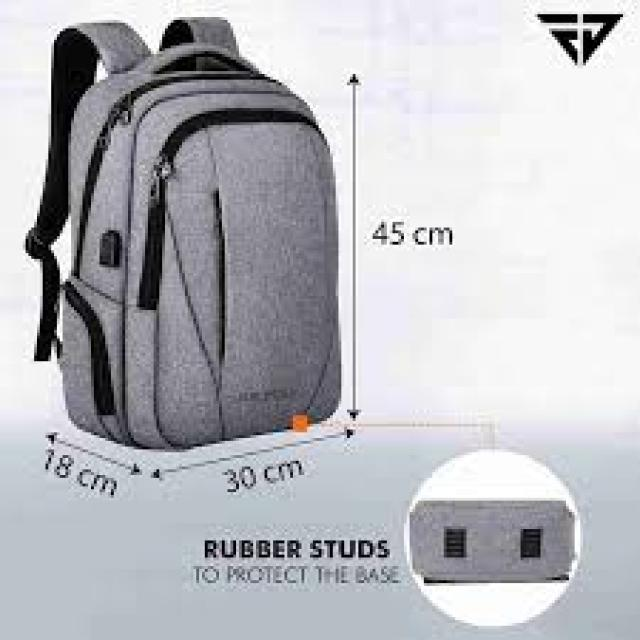backpack: (24, 16, 342, 451)
